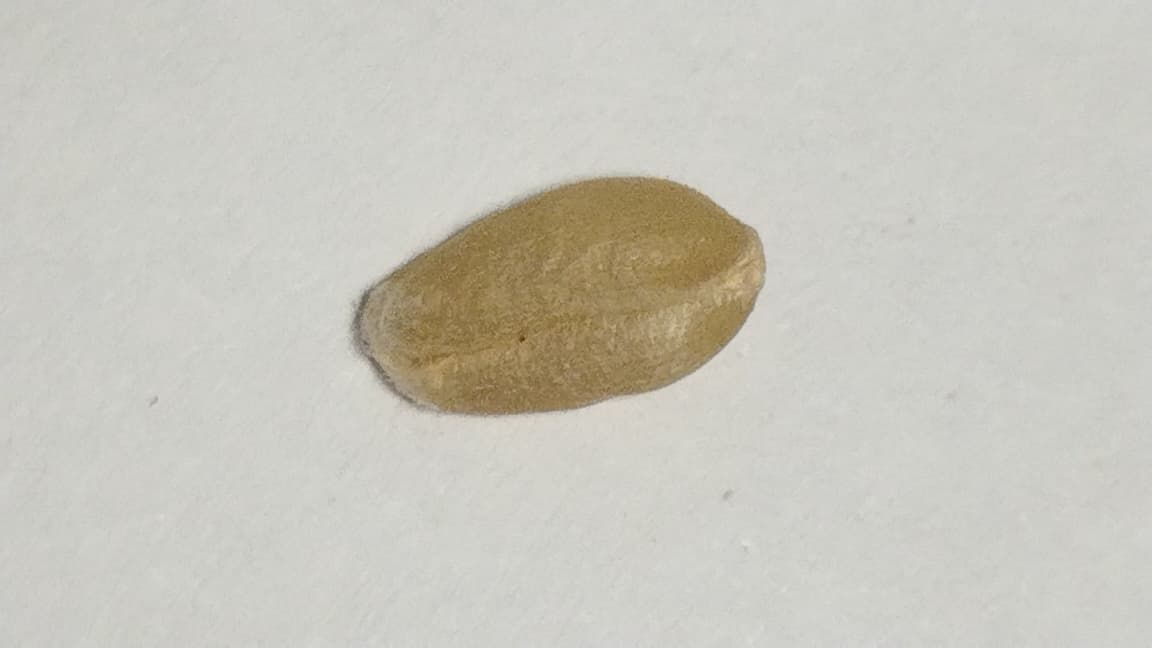healthy: (358, 169, 765, 414)
